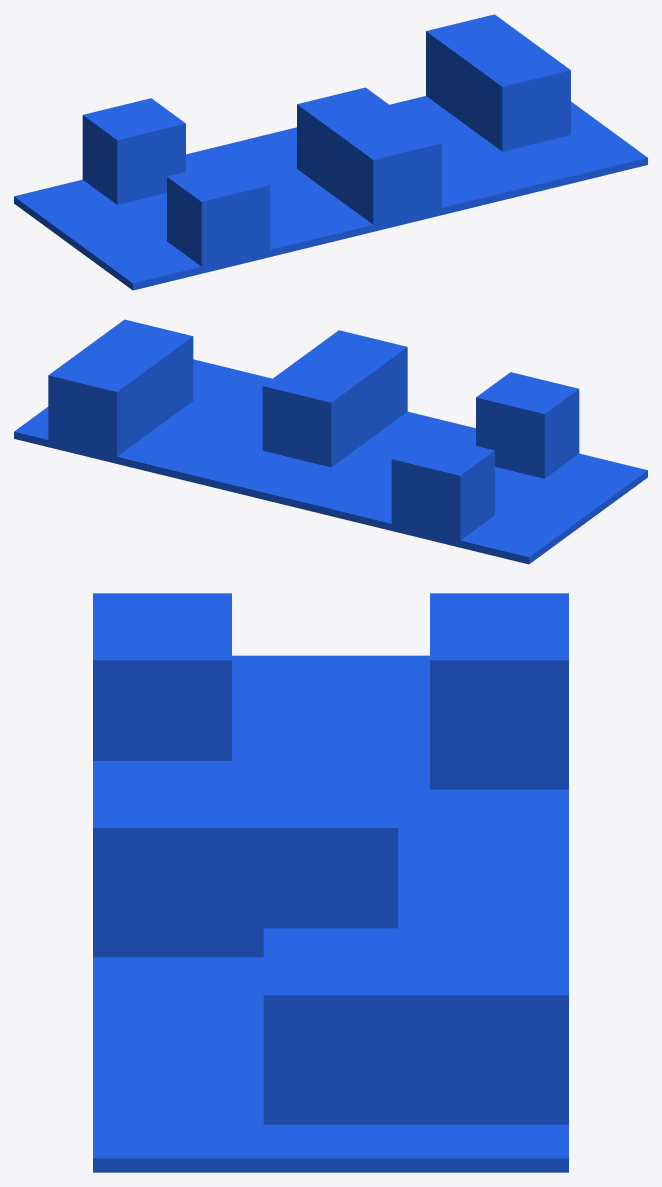
File: Towe2.fbx
3 renders of one model, top to bottom at view 1: azimuth 30°, elevation 25°; view 2: azimuth 150°, elevation 25°; view 3: azimuth 270°, elevation 25°, orthographic. The views are drawn at different scales.
Parts seen in each view (by area): view 1: Box001; view 2: Box001; view 3: Box001.
Part boxes in pixels (<box>): Box001: <box>14,14,647,290</box>; Box001: <box>14,319,647,564</box>; Box001: <box>93,593,568,1172</box>.
Bounding box in the file's own units: 591 × 78.74 × 236.
